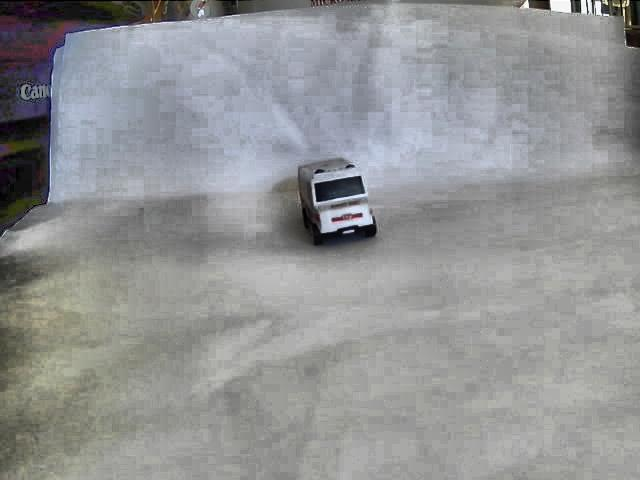ambulance: (297, 157, 376, 245)
